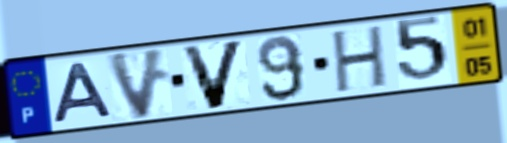5: (391, 13, 452, 88)
9: (254, 33, 308, 104)
A: (51, 59, 117, 127)
H: (331, 22, 389, 96)
V: (178, 37, 249, 113), (103, 45, 170, 123)
